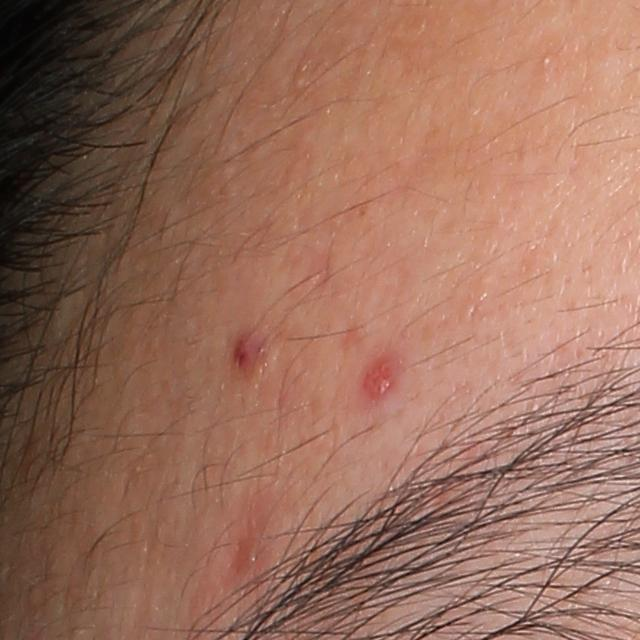papule: (358, 353, 403, 408), (230, 328, 268, 374)
